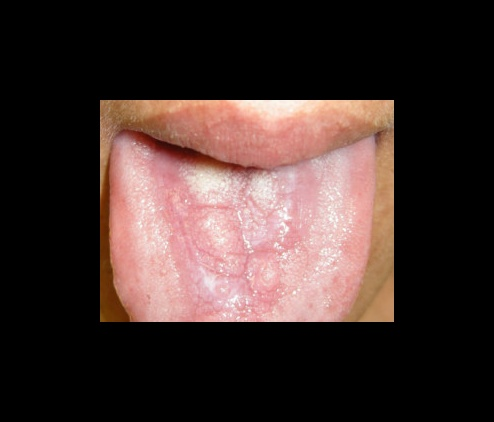SJS-TEN: (134, 84, 368, 337)
